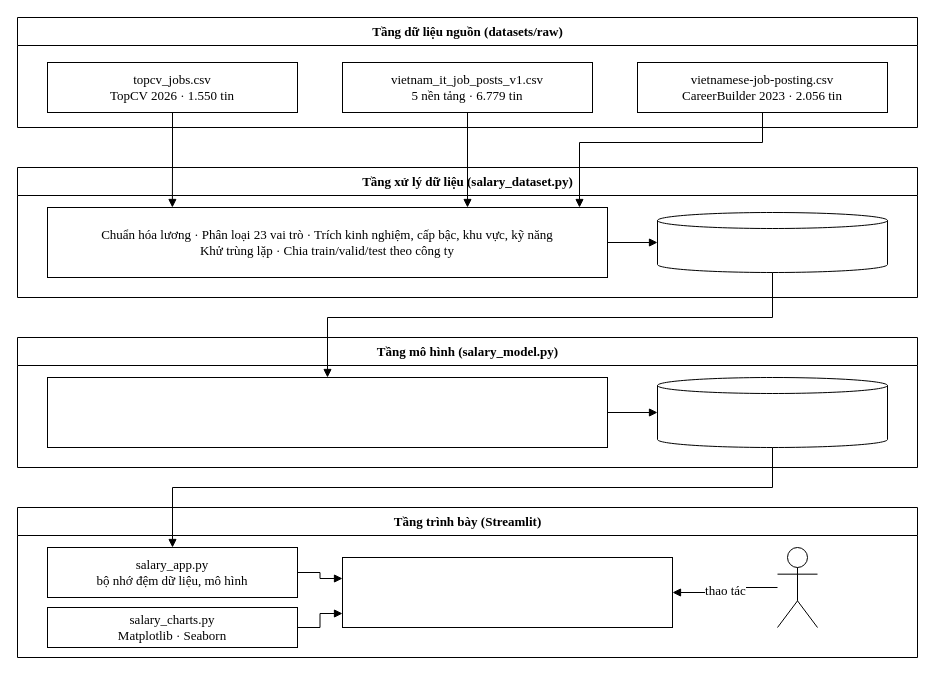
The diagram is 935 pixels wide and 675 high, and some of its shapes have lost their labels. Here are the shapes that lost their labels. From the top down, the centre of each, then its label:
At (x=772, y=242): "salary_dataset_v2.csv 3.809 bản ghi".
At (x=327, y=412): "Huấn luyện và chọn mô hình Baseline · Ridge · Random Forest · Gradient Boosting".
At (x=772, y=412): "artifacts/salary-v2 *.joblib · metrics.json skill_value.csv".
At (x=507, y=592): "app.py (điều hướng) advisor · overview · evaluation · dataset · market".
At (x=797, y=587): "Người dùng".
